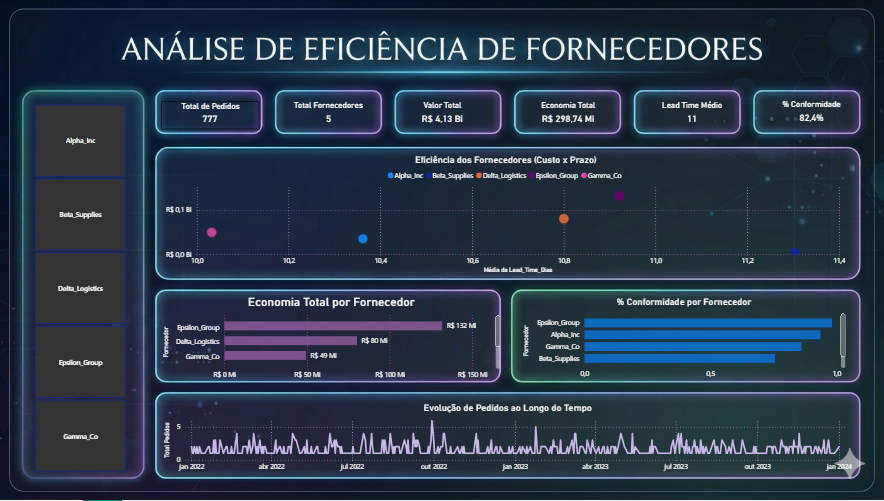

What the dashboard file says about the page in this screenshot:
{"tool":"powerbi","page":{"name":"Visão Executiva","canvas":[1600,900],"ordinal":0},"visuals":[{"type":"card","title":"Total de Pedidos","fields":{"Values":["Base_Contratos.Total Pedidos"]},"box":[292.9,181.6,176.7,50.7],"z":0},{"type":"card","title":"Total Fornecedores","fields":{"Values":["Base_Contratos.Total Fornecedores"]},"box":[504,181.6,181.6,47.5],"z":1000},{"type":"card","title":"Valor Total","fields":{"Values":["Base_Contratos.Valor Total"]},"box":[716.7,181.6,166.9,47.5],"z":2000},{"type":"card","title":"Lead Time Médio","fields":{"Values":["Avg(Base_Contratos.Lead_Time_Dias)"]},"box":[1170,181.6,158.7,47.5],"z":3000},{"type":"card","title":"% Conformidade","fields":{"Values":["Base_Contratos.% Conformidade"]},"box":[1400.5,180.6,128.1,48.3],"z":4000},{"type":"card","title":"Economia Total","fields":{"Values":["Base_Contratos.Economia Total"]},"box":[939.3,181.6,173.5,47.5],"z":5000},{"type":"clusteredBarChart","fields":{"Category":["Base_Contratos.Fornecedor"],"Y":["Base_Contratos.Economia Total"]},"box":[291.9,531.2,617.3,161.7],"z":6000},{"type":"scatterChart","title":"Eficiência dos Fornecedores (Custo x Prazo)","fields":{"X":["Avg(Base_Contratos.Lead_Time_Dias)"],"Y":["Base_Contratos.Economia Total"],"Series":["Base_Contratos.Fornecedor"],"Size":["Base_Contratos.Valor Total"]},"box":[296.2,276.5,1233.8,219.3],"z":7000},{"type":"barChart","fields":{"Category":["Base_Contratos.Fornecedor"],"Y":["Base_Contratos.% Conformidade"]},"box":[939.3,533.5,590.7,158.7],"z":8000},{"type":"lineChart","title":"Evolução de Pedidos ao Longo do Tempo","fields":{"Y":["Base_Contratos.Total Pedidos"],"Category":["Base_Contratos.Data_Pedido"]},"box":[292.9,723.3,1248.5,134.2],"z":9000},{"type":"slicer","fields":{"Values":["Base_Contratos.Fornecedor"]},"box":[42,182.7,212.1,674],"z":9001}]}

Visuals, with their boxes in screenshot pixels (x1, y1, x2, y2), scaled from the page's 1600x900 canvas onto the 884x501 screenshot:
"Total de Pedidos" card: {"left": 162, "top": 101, "right": 259, "bottom": 129}
"Total Fornecedores" card: {"left": 278, "top": 101, "right": 379, "bottom": 128}
"Valor Total" card: {"left": 396, "top": 101, "right": 488, "bottom": 128}
"Lead Time Médio" card: {"left": 646, "top": 101, "right": 734, "bottom": 128}
"% Conformidade" card: {"left": 774, "top": 101, "right": 845, "bottom": 127}
"Economia Total" card: {"left": 519, "top": 101, "right": 615, "bottom": 128}
clusteredBarChart - Base_Contratos.Fornecedor x Base_Contratos.Economia Total: {"left": 161, "top": 296, "right": 502, "bottom": 386}
"Eficiência dos Fornecedores (Custo x Prazo)" scatterChart: {"left": 164, "top": 154, "right": 845, "bottom": 276}
barChart - Base_Contratos.Fornecedor x Base_Contratos.% Conformidade: {"left": 519, "top": 297, "right": 845, "bottom": 385}
"Evolução de Pedidos ao Longo do Tempo" lineChart: {"left": 162, "top": 403, "right": 852, "bottom": 477}
slicer - Base_Contratos.Fornecedor: {"left": 23, "top": 102, "right": 140, "bottom": 477}
